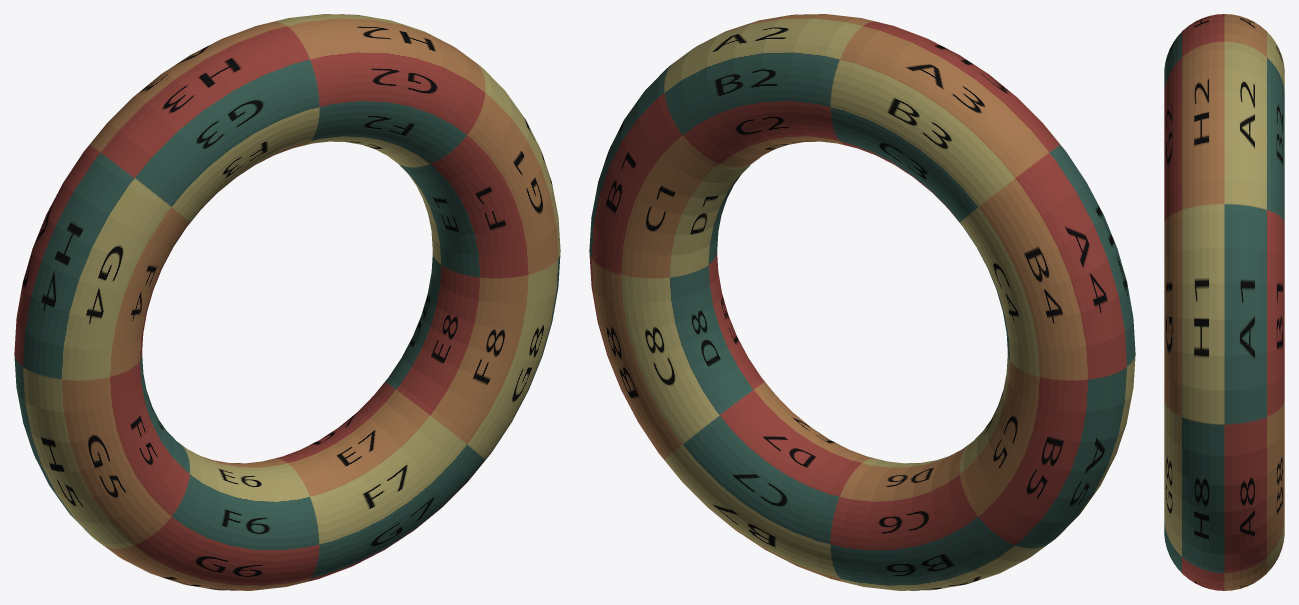
File: texture_torus_R16_r13.glb
3 renders of one model, left to right at view 1: azimuth 30°, elevation 25°; view 2: azimuth 150°, elevation 25°; view 3: azimuth 270°, elevation 25°, orthographic. The views are drawn at different scales.
Parts seen in each view (by area): view 1: world; view 2: world; view 3: world.
Boxes of the visible parts, box(x1,y1,x2,y2) form: world: box(14, 14, 560, 590); world: box(589, 14, 1135, 590); world: box(1164, 14, 1284, 590).
Size of the model in its own units: 26.13 by 26.08 by 5.46.
Materials: 1 (1 with a texture image).
